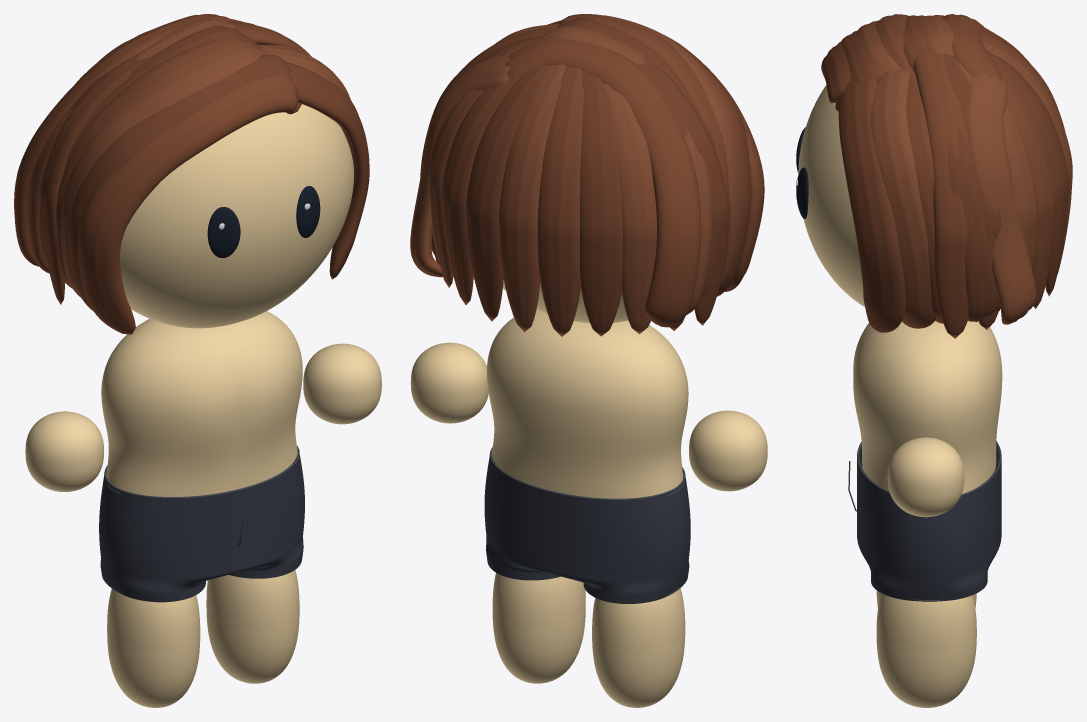
Rendered from Feminine-base.glb.
3 views of the same model, side by side, from view 1: azimuth 30°, elevation 25°; view 2: azimuth 150°, elevation 25°; view 3: azimuth 270°, elevation 25° (orthographic).
Visible parts, largest first — view 1: Skin / soft oval head, Skin / rounded torso, Clothing / fixed shorts, Hair / Bob / side sweep 0, Skin / leg blob -1, Skin / leg blob 1, Hair / Bob / side sweep 1, Hair / Bob / side sweep 2, Skin / orb hand 1, Skin / orb hand -1, Hair / Bob / side sweep 7, Hair / Bob / side sweep 22 (+8 smaller); view 2: Skin / rounded torso, Clothing / fixed shorts, Hair / Bob / side sweep 6, Hair / Bob / side sweep 18, Hair / Bob / side sweep 19, Skin / leg blob -1, Hair / Bob / side sweep 17, Skin / leg blob 1, Hair / Bob / side sweep 16, Hair / Bob / side sweep 20, Hair / Bob / side sweep 15, Skin / orb hand -1 (+12 smaller); view 3: Skin / rounded torso, Clothing / fixed shorts, Skin / leg blob 1, Hair / Bob / side sweep 7, Hair / Bob / side sweep 12, Hair / Bob / side sweep 11, Hair / Bob / side sweep 8, Skin / soft oval head, Skin / orb hand 1, Hair / Bob / side sweep 10, Hair / Bob / side sweep 15, Hair / Bob / side sweep 16 (+13 smaller).
Boxes of the visible parts, x1,y1,x2,y2 form: Skin / soft oval head: (120,104,353,328); Skin / rounded torso: (101,311,302,496); Clothing / fixed shorts: (99,452,304,602); Hair / Bob / side sweep 0: (78,75,301,334); Skin / leg blob -1: (107,588,200,707); Skin / leg blob 1: (206,570,299,683); Hair / Bob / side sweep 1: (68,54,293,311); Hair / Bob / side sweep 2: (60,48,268,297); Skin / orb hand 1: (303,343,381,424); Skin / orb hand -1: (25,411,103,491); Hair / Bob / side sweep 7: (286,62,369,279); Hair / Bob / side sweep 22: (39,54,148,304); Skin / rounded torso: (487,309,688,498); Clothing / fixed shorts: (484,453,690,603); Hair / Bob / side sweep 6: (505,37,701,327); Hair / Bob / side sweep 18: (537,66,583,336); Hair / Bob / side sweep 19: (580,71,622,336); Skin / leg blob -1: (592,588,685,707); Hair / Bob / side sweep 17: (499,64,566,332); Skin / leg blob 1: (492,573,585,683); Hair / Bob / side sweep 16: (466,65,548,321); Hair / Bob / side sweep 20: (603,83,656,334); Hair / Bob / side sweep 15: (441,75,521,304); Skin / orb hand -1: (689,410,767,491); Skin / rounded torso: (853,321,1002,493); Clothing / fixed shorts: (857,444,1001,601); Skin / leg blob 1: (876,593,976,707); Hair / Bob / side sweep 7: (838,78,905,332); Hair / Bob / side sweep 12: (913,50,971,338); Hair / Bob / side sweep 11: (967,73,1036,324); Hair / Bob / side sweep 8: (870,69,936,328); Skin / soft oval head: (798,85,935,321); Skin / orb hand 1: (887,437,964,517); Hair / Bob / side sweep 10: (948,126,1000,321); Hair / Bob / side sweep 15: (999,69,1057,308); Hair / Bob / side sweep 16: (986,50,1068,296).
Size of the model in its own units: 1.23 by 2.25 by 0.8655.
